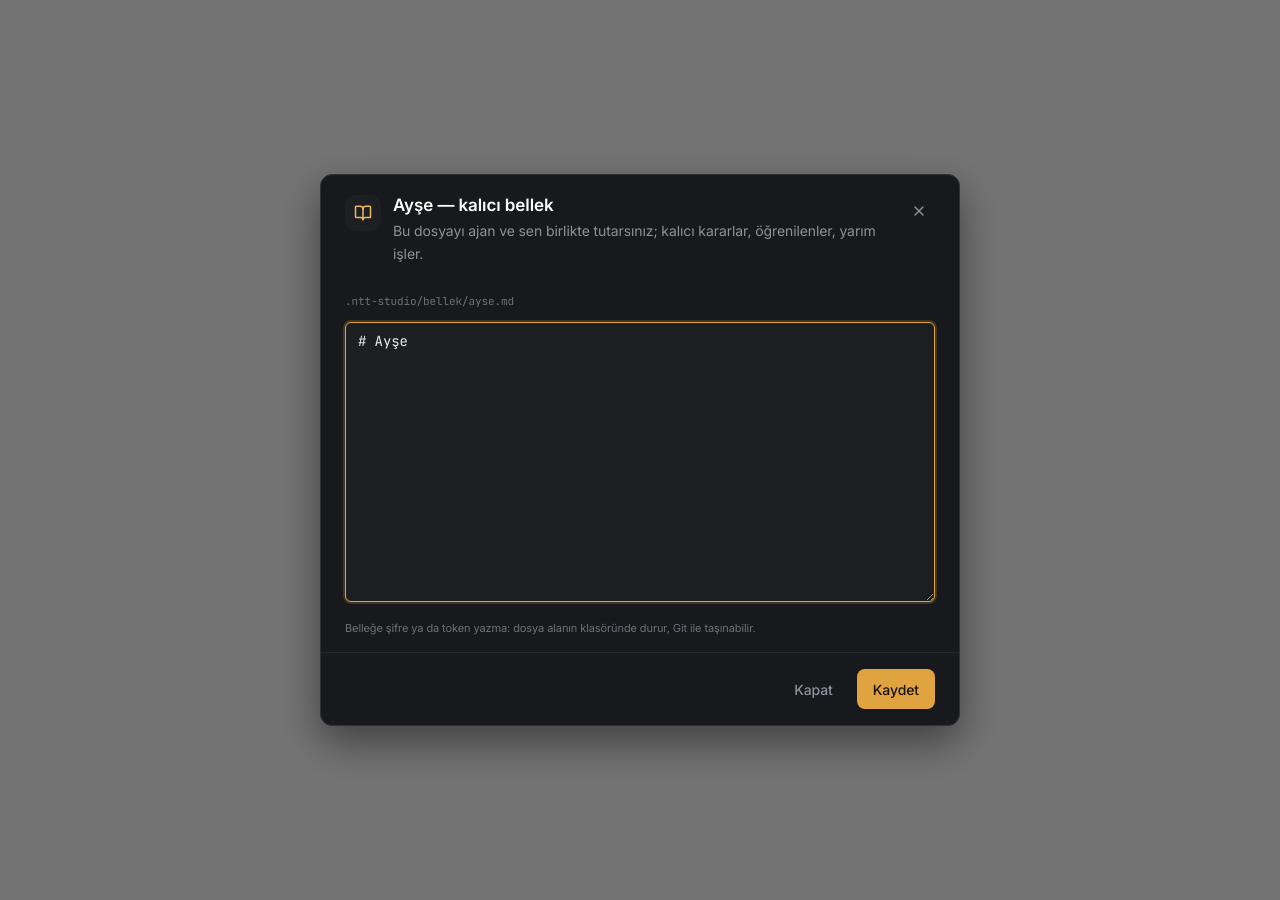
MemoryDialog › kaydetmede tooLarge gelince 'Metin çok uzun' yazıyor, 'Dosya çok büyük' değil
The width and height of the screenshot is (1280, 900).
Replace the text in the text box with "uzun metin" at (640, 462), box [345, 322, 935, 602]
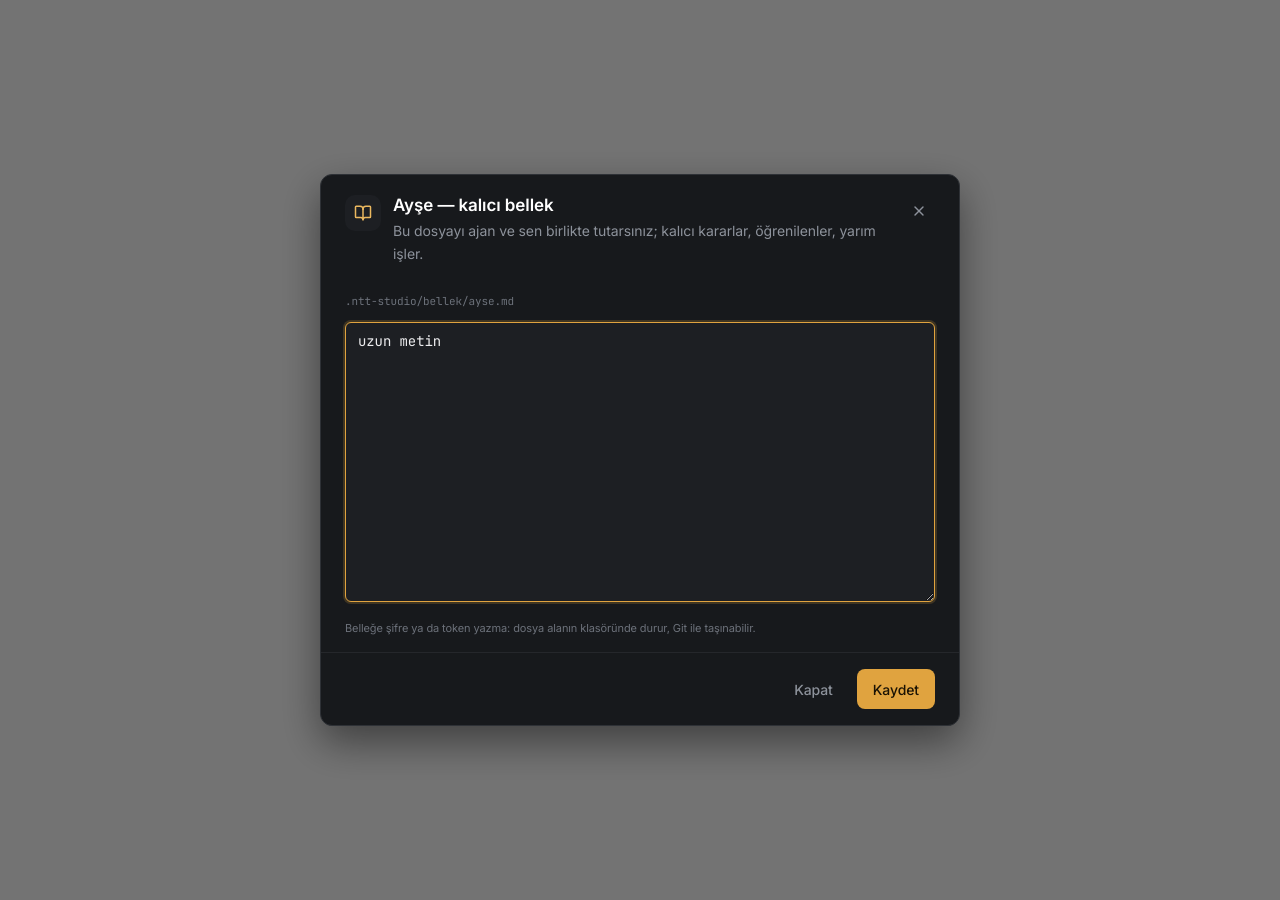
Click the button "Kaydet".
click(896, 689)  # box [857, 669, 935, 709]
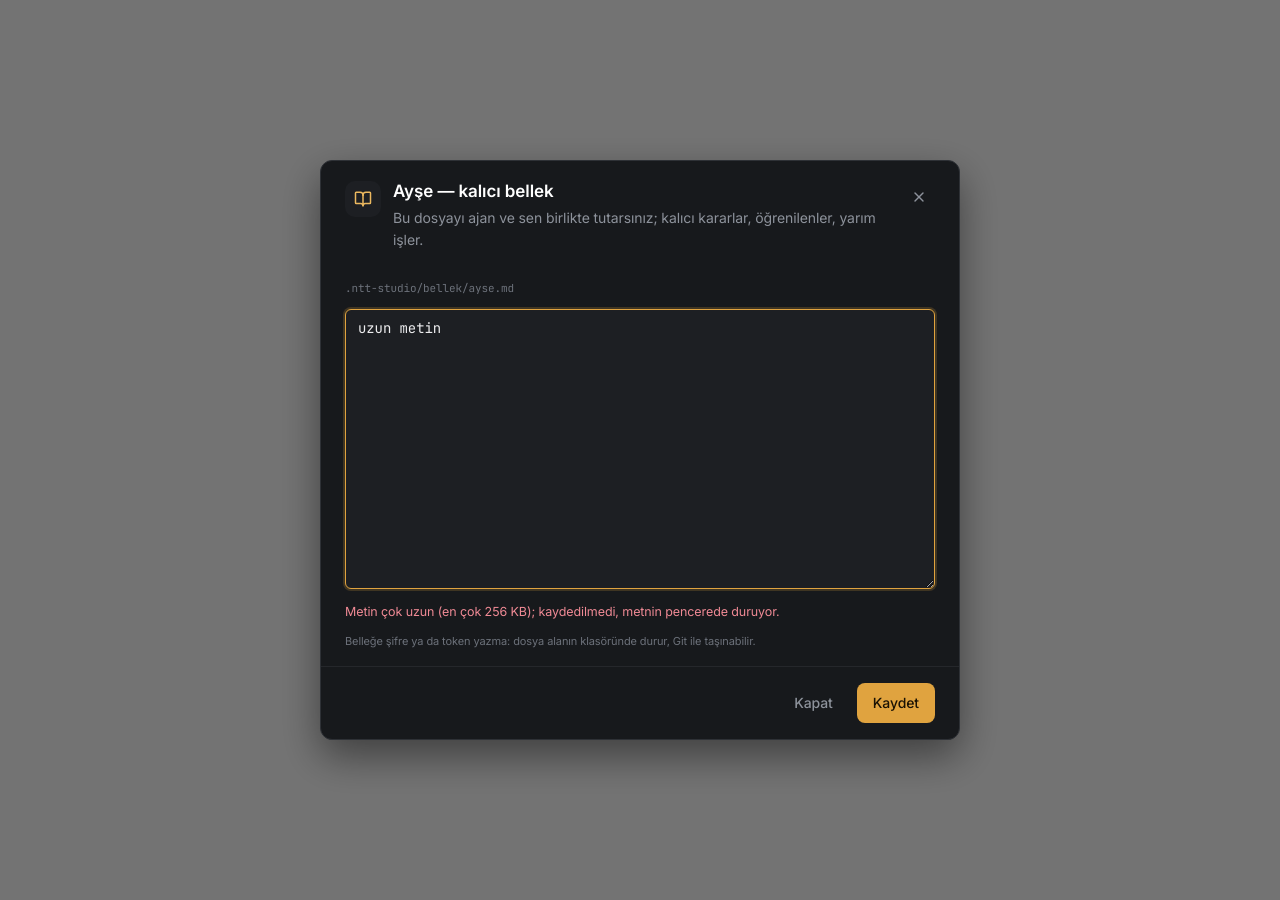
Expected: the text "Metin çok uzun (en çok 256 KB); kaydedilmedi, metnin pencerede duruyor." is shown, [345, 604, 780, 618]
